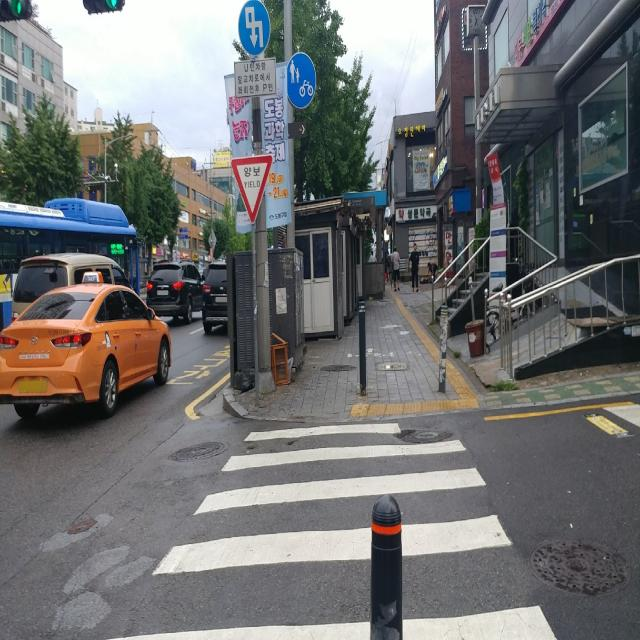횡단보도: (148, 420, 560, 640)
